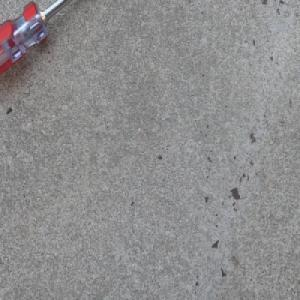Screwdriver: (0, 0, 82, 85)
